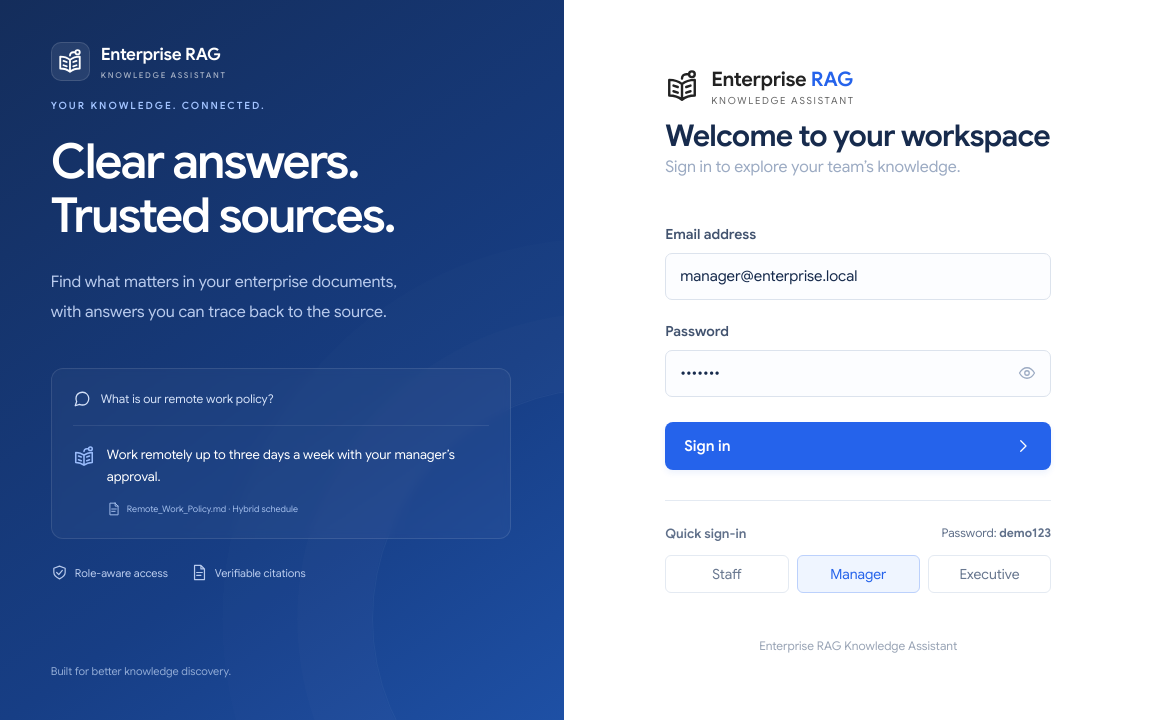
it: frontend independent workflows › blocks duplicate sends and ignores a late response after a new conversation
Click the button "Sign in" at (707, 446), box x1=665 y1=422 x2=1051 y2=470
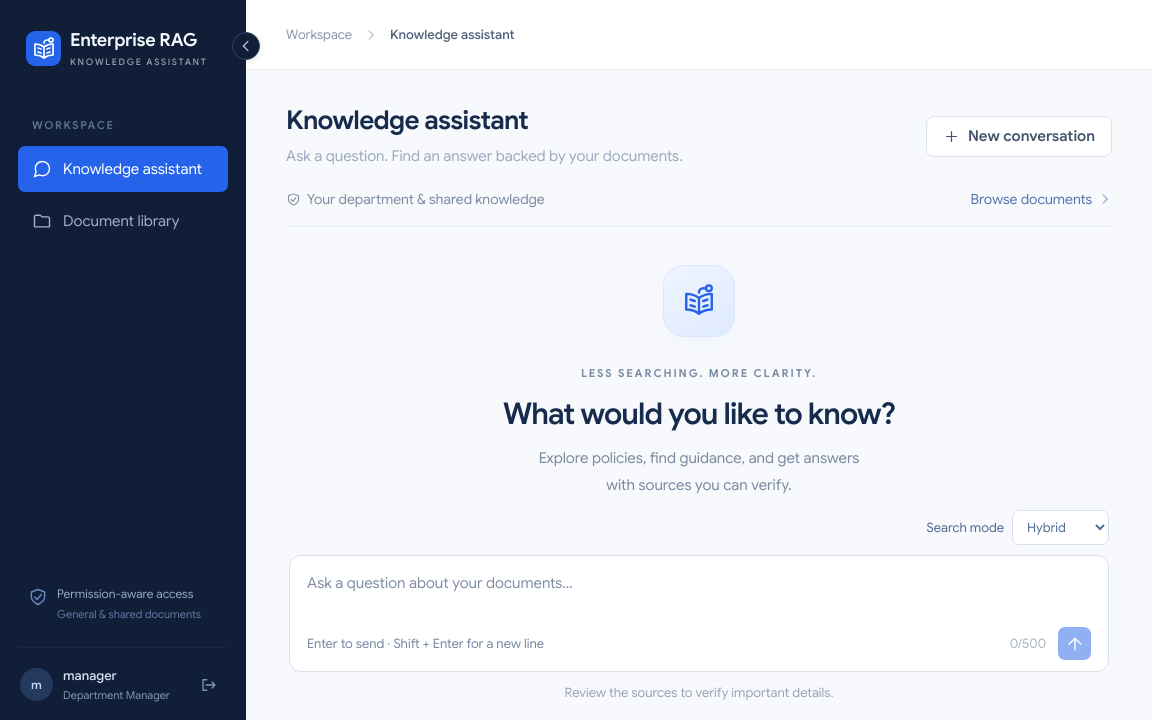
Expected: the heading "Knowledge assistant" is shown, x1=286 y1=104 x2=528 y2=136
Type "annual leave" into the text box labelled "Ask a question about your documents" at (699, 597), box x1=307 y1=571 x2=1091 y2=622
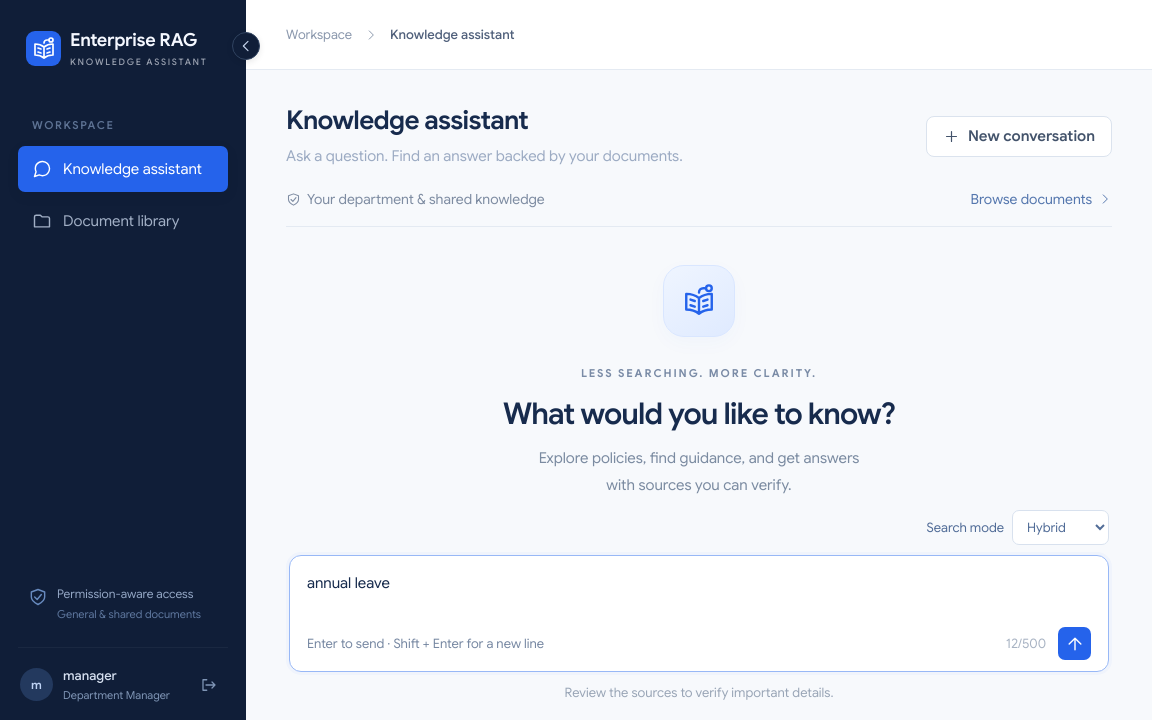
Press Enter in the text box named "Ask a question about your documents", box x1=307 y1=571 x2=1091 y2=622
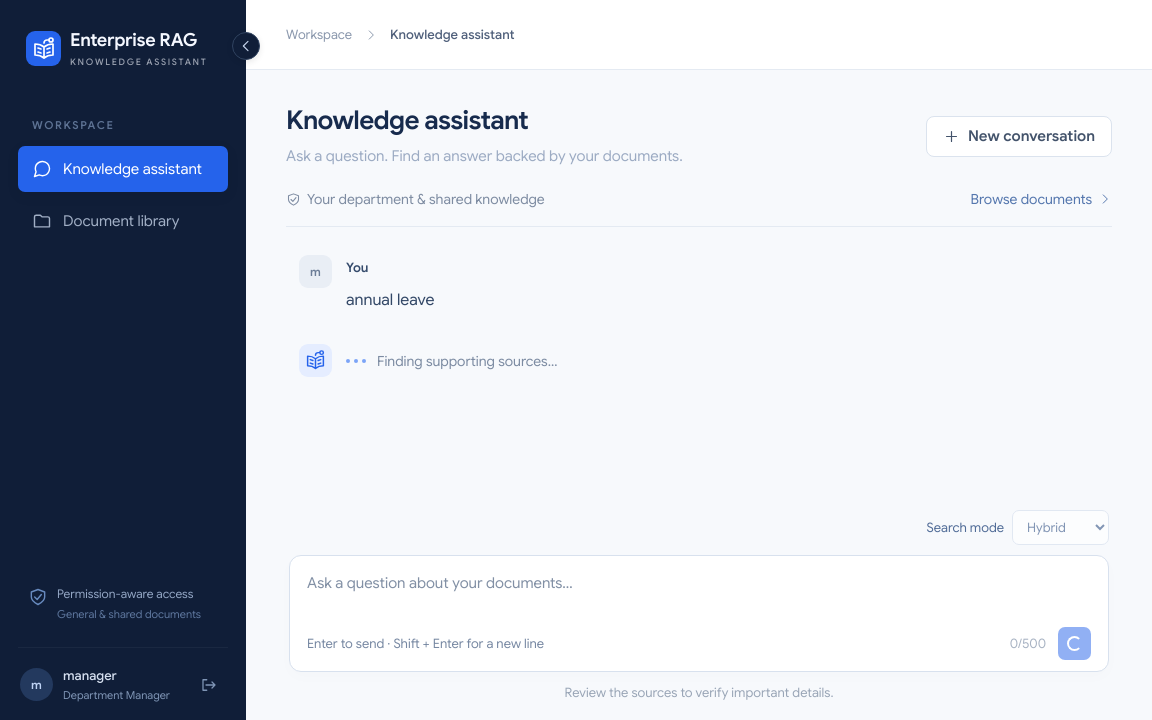
Expected: the text box labelled "Ask a question about your documents" is disabled, x1=307 y1=571 x2=1091 y2=622
Expected: the dropdown labelled "Search mode" is disabled, x1=1012 y1=510 x2=1109 y2=545
Expected: the button named "Send question" is disabled, x1=1058 y1=627 x2=1091 y2=660
Click the button "New conversation" at (1019, 136), box x1=926 y1=116 x2=1112 y2=156
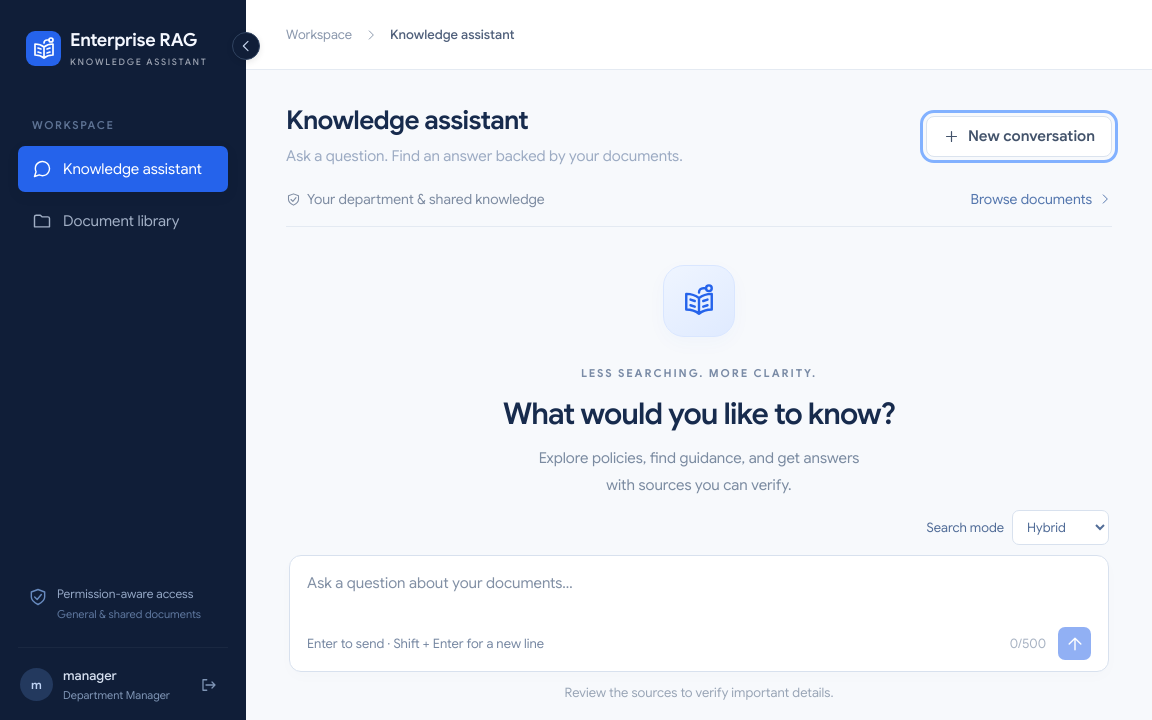
Expected: the heading "What would you like to know?" is shown, x1=503 y1=395 x2=895 y2=433
